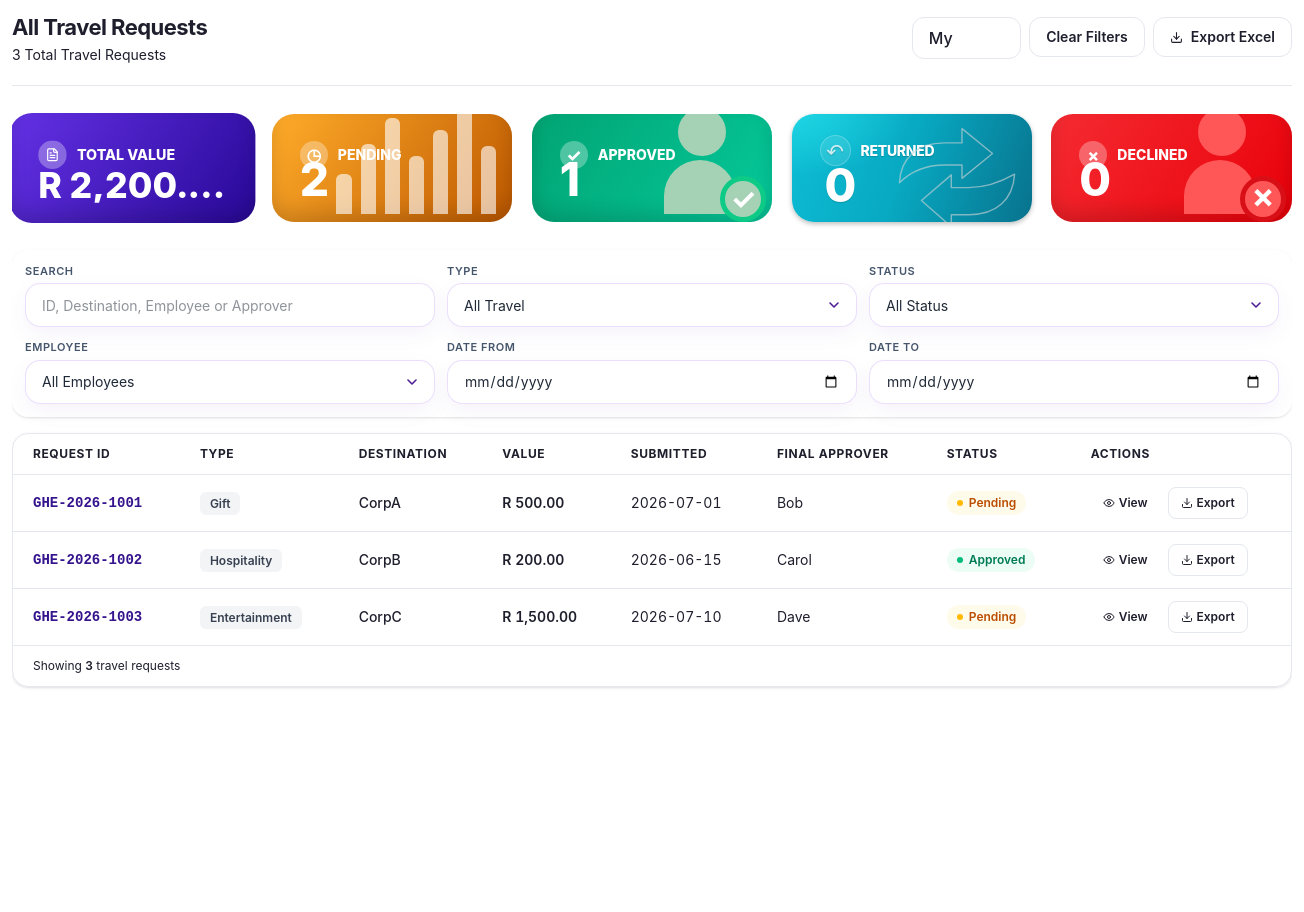
it: MyDeclarationsScreen › renders declarations table with user's declarations in 'my' mode
What coordinates should you click on to do the following:
click the button "My"
I would click on:
 (941, 38)
Its box is top-left (913, 18), bottom-right (969, 58).
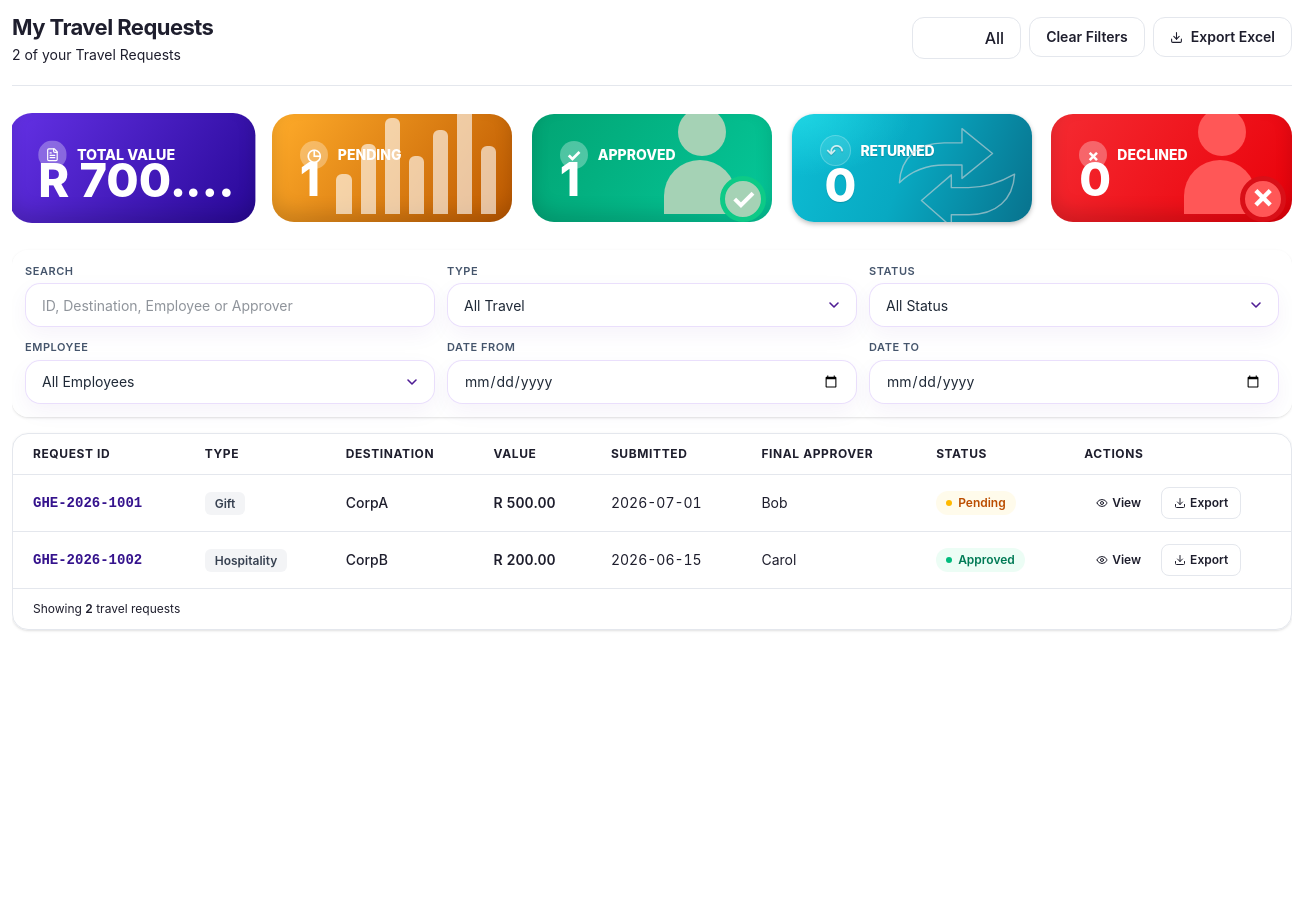
Check: the text "GHE-2026-1003" is not shown
